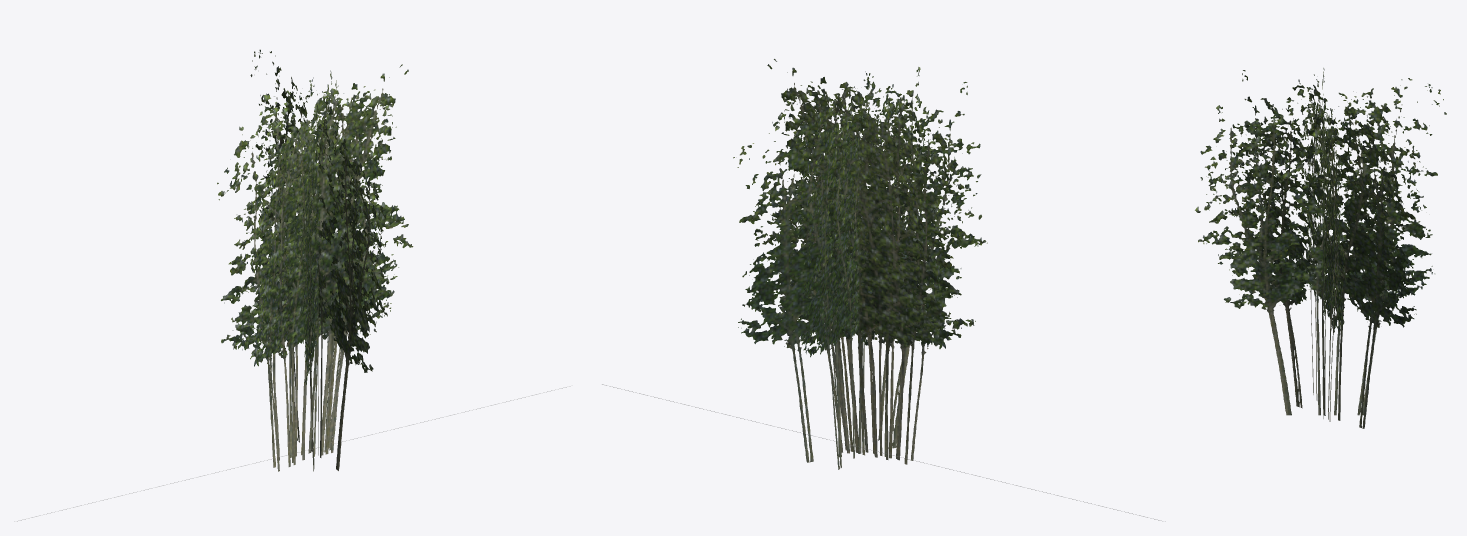
The model's file is MS_Bamboo_a3_lod_3.fbx.
The picture shows the model from 3 angles, left to right: view 1: azimuth 30°, elevation 25°; view 2: azimuth 150°, elevation 25°; view 3: azimuth 270°, elevation 25°; orthographic projection. The views are drawn at different scales.
Visible parts, largest first — view 1: pCube2; view 2: pCube2; view 3: pCube2.
Part boxes in pixels (<box>): pCube2: <box>14,49,570,521</box>; pCube2: <box>602,59,1165,521</box>; pCube2: <box>1195,68,1446,428</box>.
Size of the model in its own units: 4150 by 1830 by 2750.
Materials: 2 (1 with a texture image).
